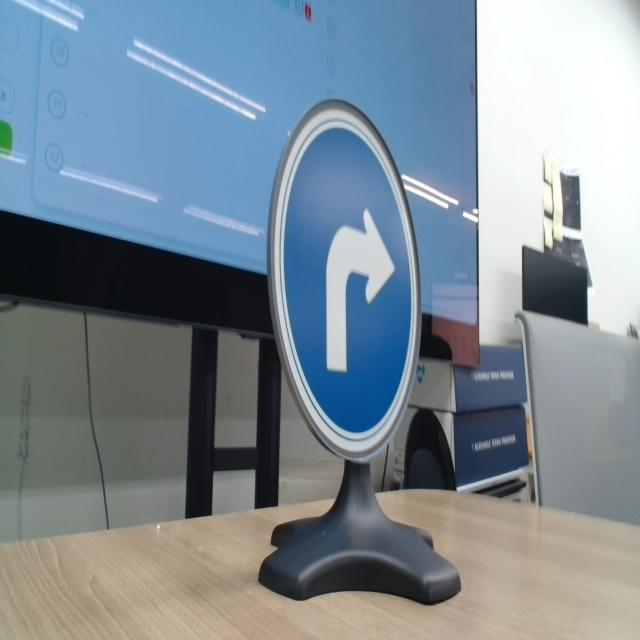right_dierection: (255, 78, 429, 488)
